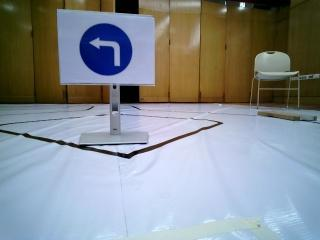left: (60, 14, 156, 92)
